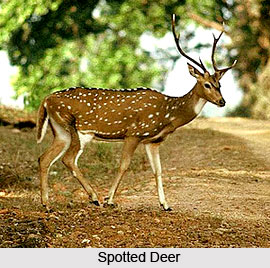Deer: (36, 14, 240, 209)
